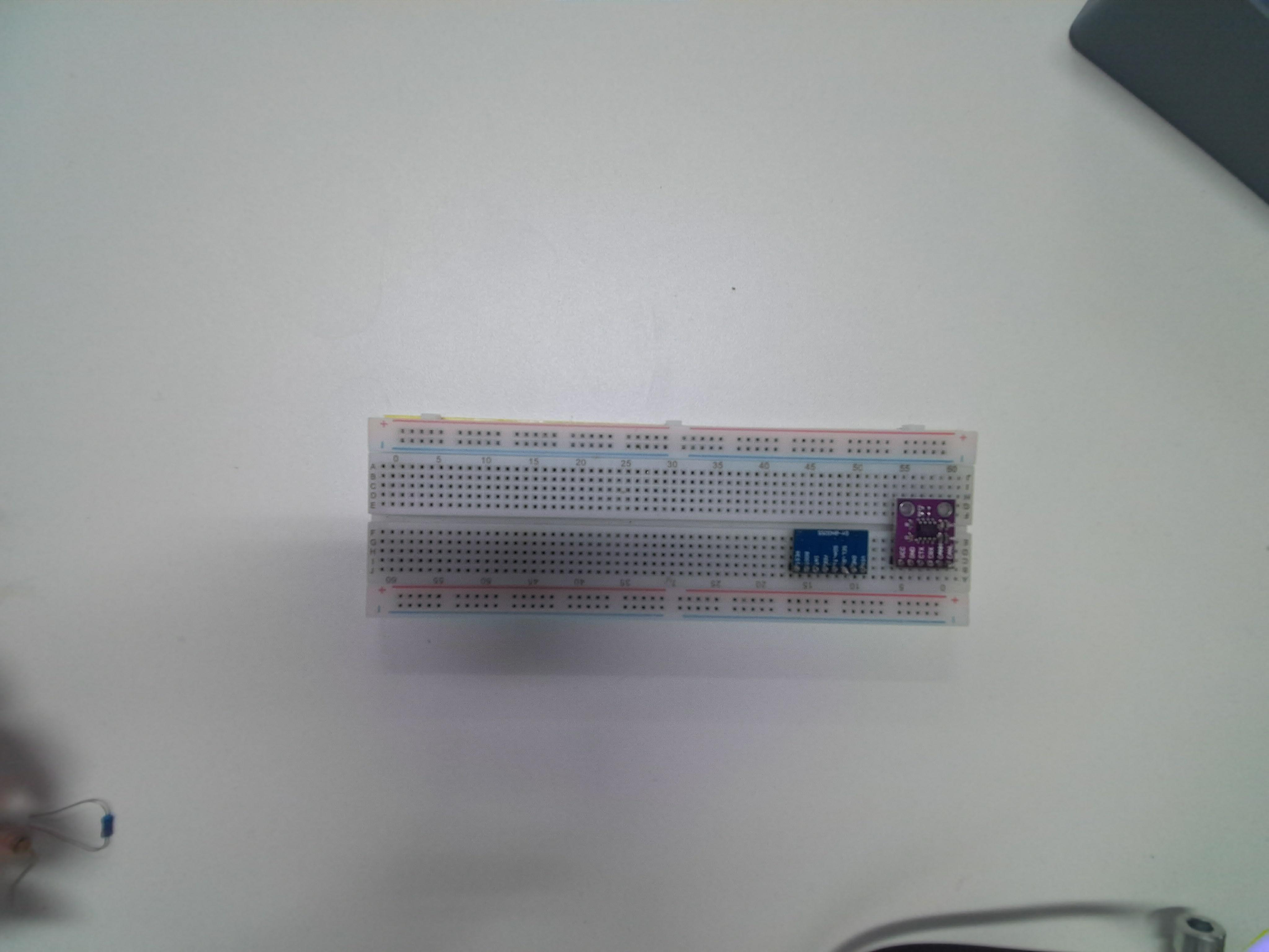base: (362, 418, 979, 627)
blue-board: (786, 525, 870, 579)
purple-board: (889, 496, 957, 570)
